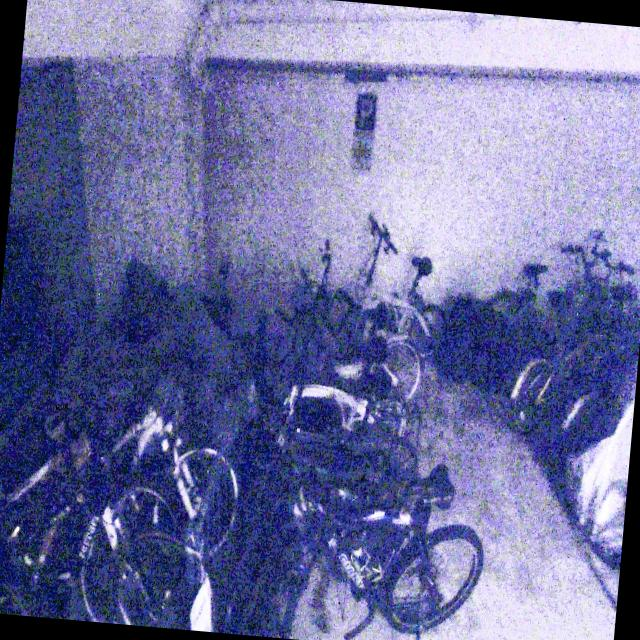bike: (9, 362, 248, 578), (259, 451, 491, 640), (477, 224, 626, 370), (329, 212, 458, 372)
